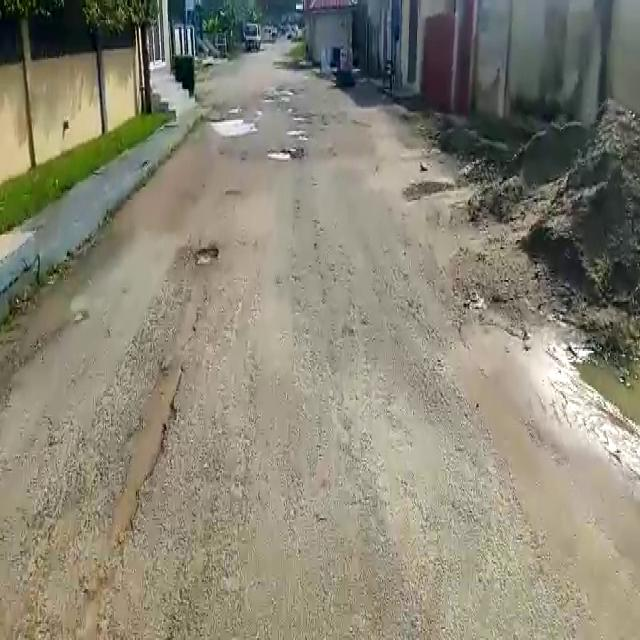Pothole: (205, 115, 260, 139), (195, 243, 219, 269), (264, 146, 301, 162)
